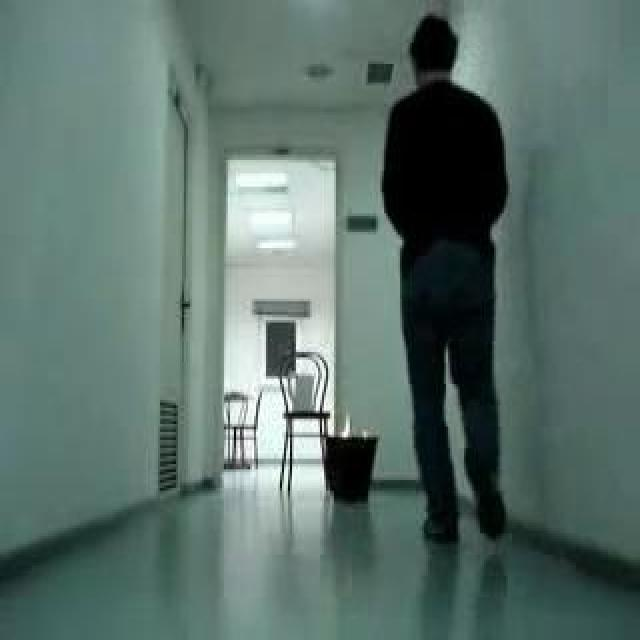Fire: (337, 411, 355, 440)
